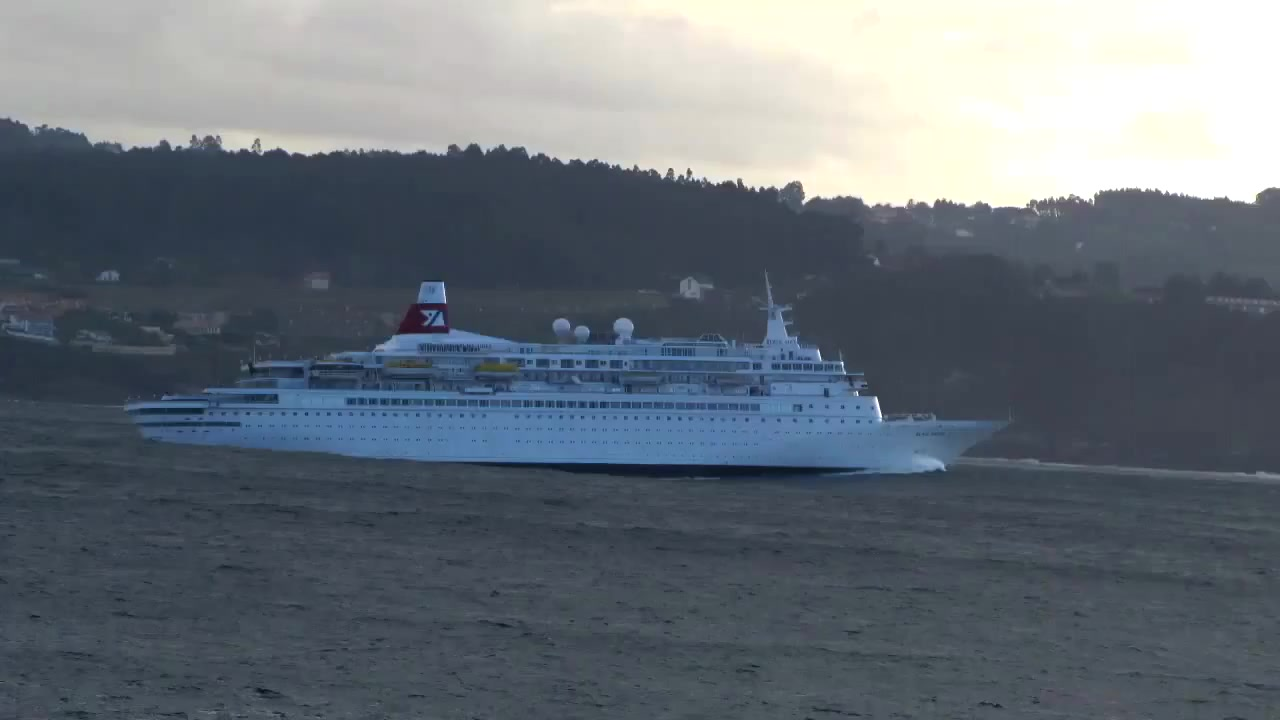boat: (125, 277, 1016, 475)
